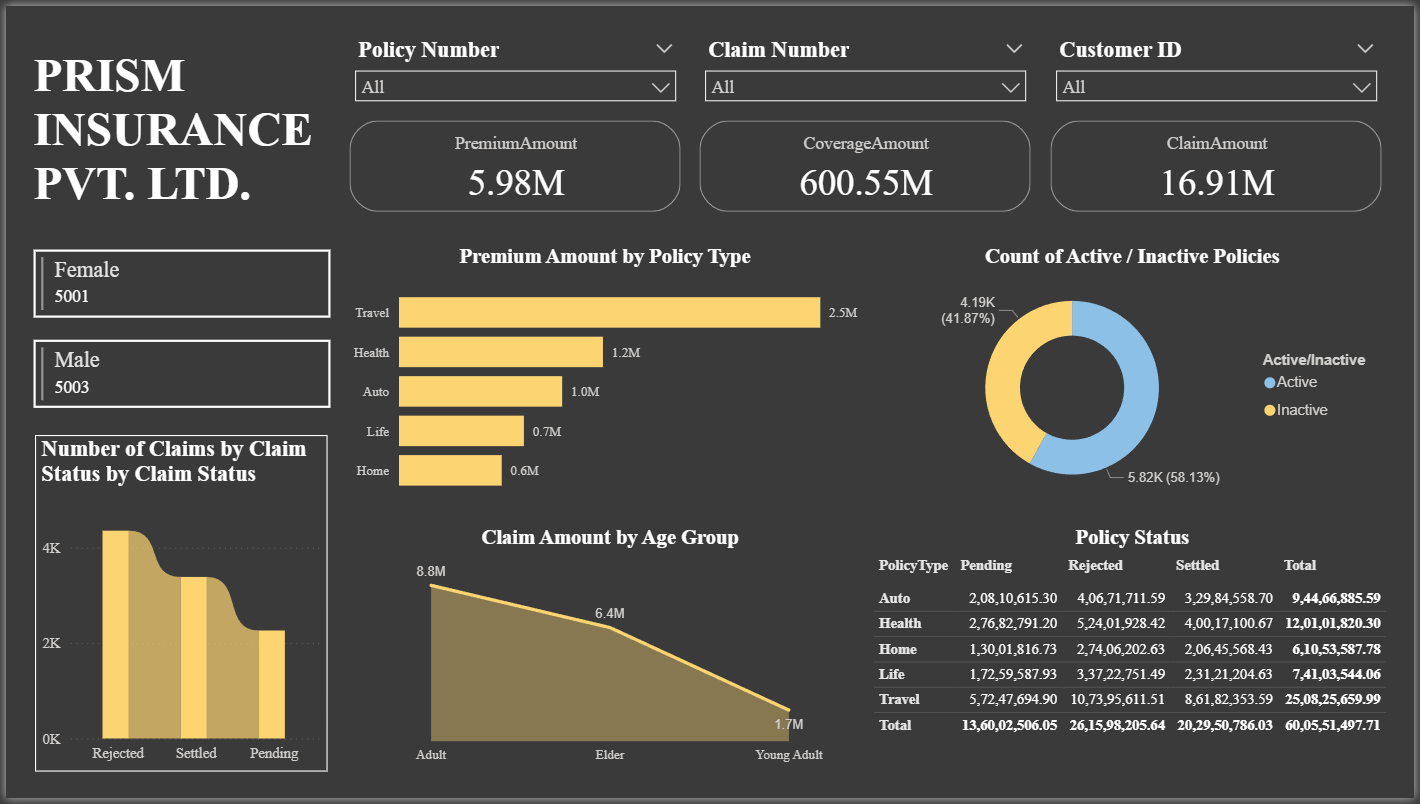

The dashboard page shown, as its layout file describes it:
{"tool":"powerbi","page":{"name":"Overview","canvas":[1280,720],"ordinal":0},"visuals":[{"type":"slicer","fields":{"Values":["InsuranceData.PolicyNumber"]},"box":[307.3,23.6,311.8,75.5],"z":0},{"type":"slicer","fields":{"Values":["InsuranceData.ClaimNumber"]},"box":[625.5,23.6,311.8,75.5],"z":1000},{"type":"slicer","fields":{"Values":["InsuranceData.CustomerID"]},"box":[944.5,23.6,311.8,75.5],"z":2000},{"type":"textbox","box":[20,33.6,280,159.1],"z":3000},{"type":"cardVisual","fields":{"Data":["Sum(InsuranceData.PremiumAmount)"]},"box":[307.3,99.1,311.8,93.6],"z":4000},{"type":"cardVisual","fields":{"Data":["Sum(InsuranceData.CoverageAmount)"]},"box":[625.5,99.1,311.8,93.6],"z":5000},{"type":"cardVisual","fields":{"Data":["Sum(InsuranceData.ClaimAmount)"]},"box":[944.5,99.1,311.8,93.6],"z":6000},{"type":"multiRowCard","fields":{"Values":["InsuranceData.Gender","CountNonNull(InsuranceData.Gender)"]},"box":[20,216.4,280,173.6],"z":7000},{"type":"ribbonChart","title":"Number of Claims by Claim Status by Claim Status","fields":{"Category":["InsuranceData.ClaimStatus"],"Y":["CountNonNull(InsuranceData.ClaimStatus)"]},"box":[26.6,390.1,266,305.9],"z":8000},{"type":"barChart","title":"Premium Amount by Policy Type","fields":{"Category":["InsuranceData.PolicyType"],"Y":["Sum(InsuranceData.PremiumAmount)"]},"box":[307.3,216.4,474.5,240],"z":9000},{"type":"lineChart","title":"Claim Amount by Age Group","fields":{"Category":["InsuranceData.Age Group"],"Y":["Sum(InsuranceData.ClaimAmount)"]},"box":[316.4,471.8,465.5,224.5],"z":10000},{"type":"donutChart","title":"Count of Active / Inactive Policies","fields":{"Category":["InsuranceData.Active/Inactive"],"Y":["CountNonNull(InsuranceData.Active/Inactive)"]},"box":[790.9,216.4,465.5,240.3],"z":11000},{"type":"pivotTable","title":"Policy Status","fields":{"Values":["Sum(InsuranceData.CoverageAmount)"],"Rows":["InsuranceData.PolicyType"],"Columns":["InsuranceData.ClaimStatus"]},"box":[783.8,471.7,480.6,225.2],"z":12000}]}

Visuals, with their boxes in screenshot pixels (x1, y1, x2, y2), scaled from the page's 1280x720 canvas onto the 1420x804 screenshot:
slicer - InsuranceData.PolicyNumber: detection(341, 26, 687, 111)
slicer - InsuranceData.ClaimNumber: detection(694, 26, 1040, 111)
slicer - InsuranceData.CustomerID: detection(1048, 26, 1394, 111)
textbox: detection(22, 38, 333, 215)
cardVisual - Sum(InsuranceData.PremiumAmount): detection(341, 111, 687, 215)
cardVisual - Sum(InsuranceData.CoverageAmount): detection(694, 111, 1040, 215)
cardVisual - Sum(InsuranceData.ClaimAmount): detection(1048, 111, 1394, 215)
multiRowCard - InsuranceData.Gender x CountNonNull(InsuranceData.Gender): detection(22, 242, 333, 436)
"Number of Claims by Claim Status by Claim Status" ribbonChart: detection(30, 436, 325, 777)
"Premium Amount by Policy Type" barChart: detection(341, 242, 867, 510)
"Claim Amount by Age Group" lineChart: detection(351, 527, 867, 778)
"Count of Active / Inactive Policies" donutChart: detection(877, 242, 1394, 510)
"Policy Status" pivotTable: detection(870, 527, 1403, 778)
